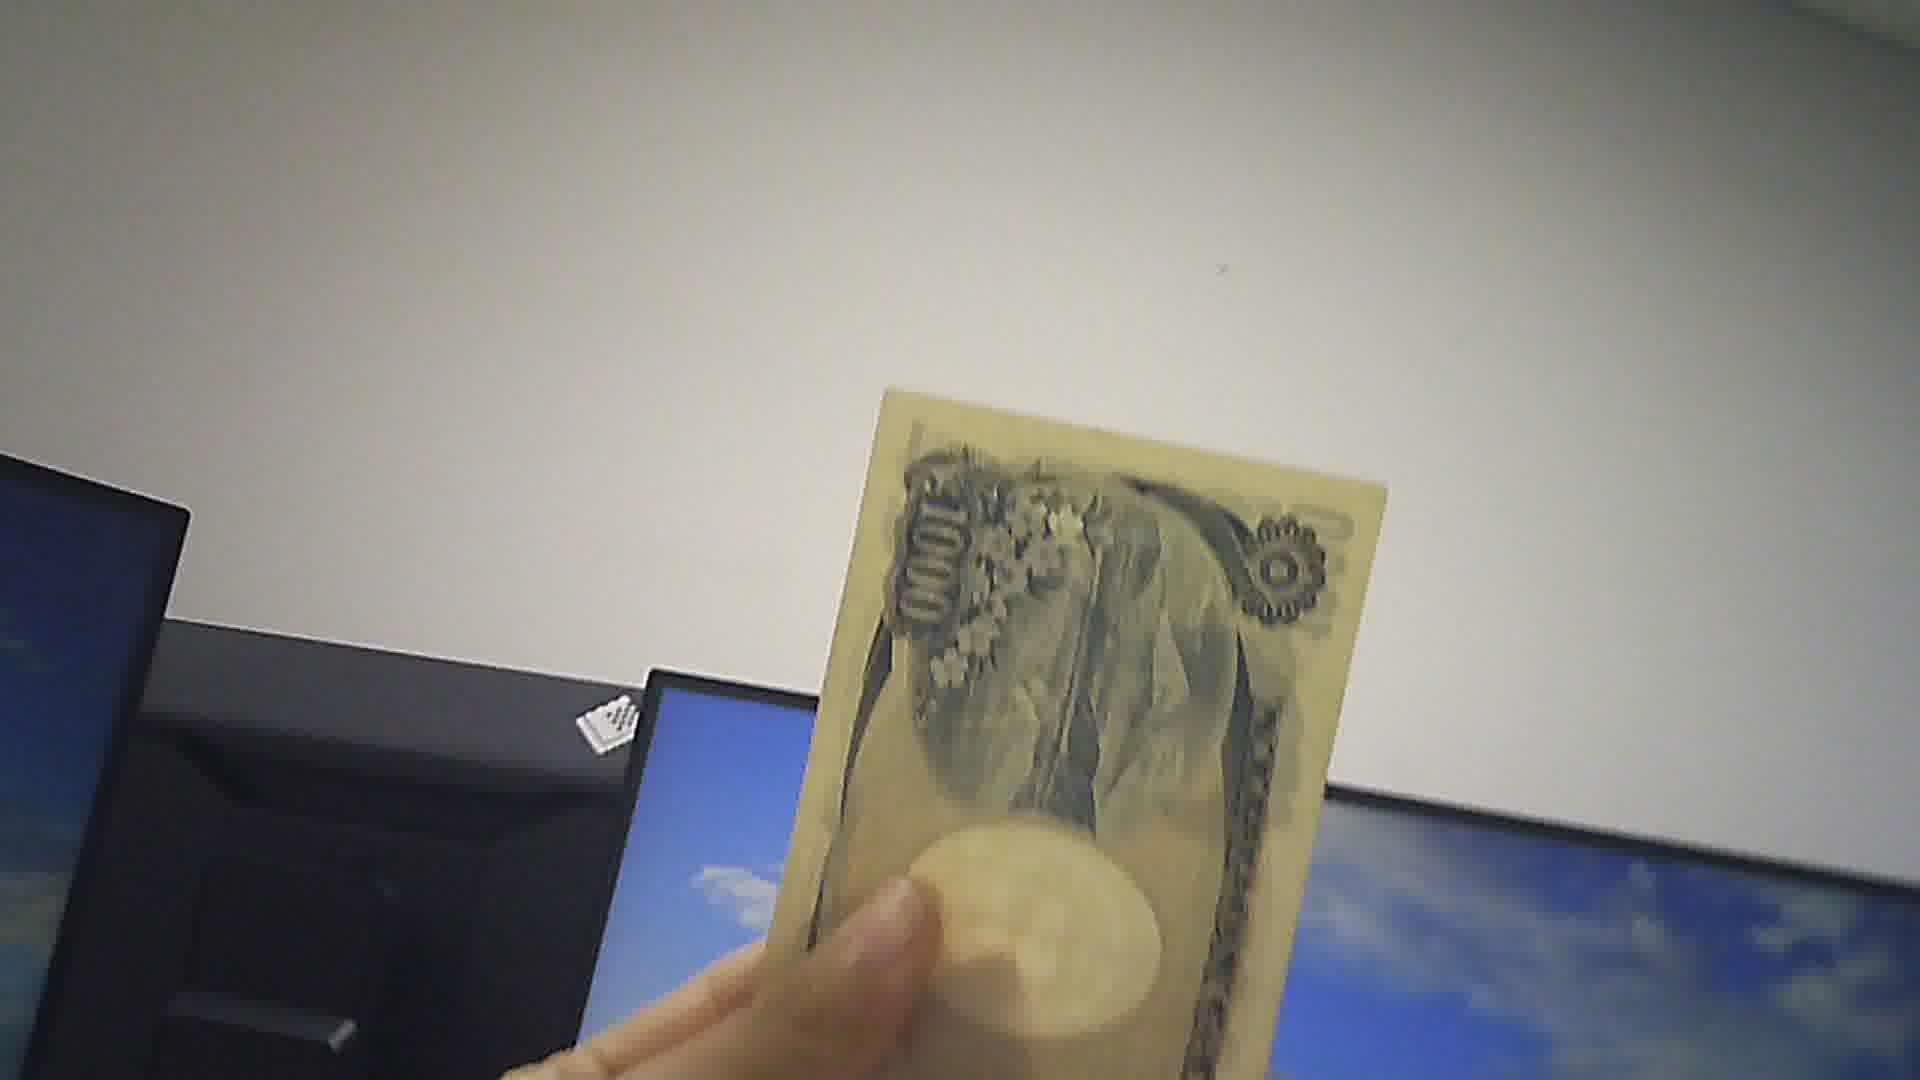1,000 Yen: (779, 380, 1338, 1079)
